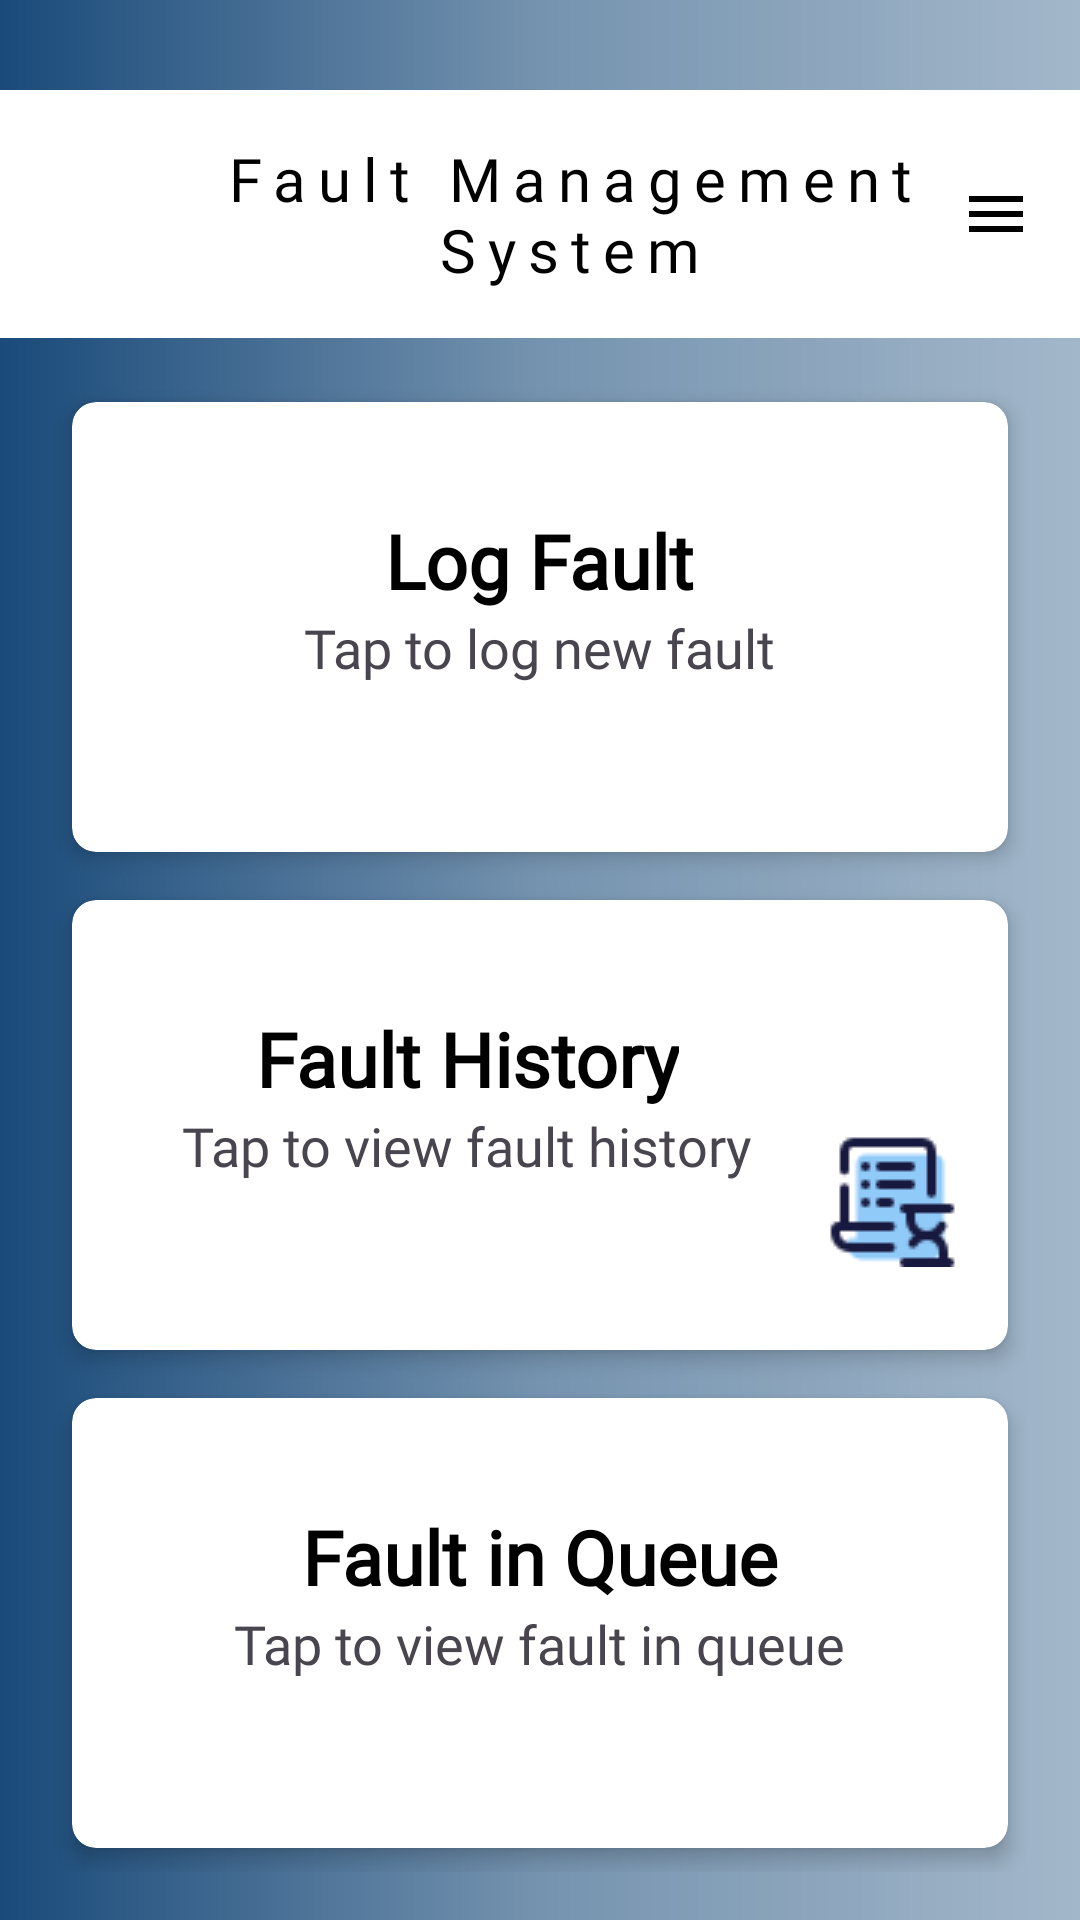

Icons on this 1080 × 1920 Android screen, each with its box as (x1, y1, x2, y2):
historyicon: (830, 1137, 955, 1267)
menu: (969, 196, 1023, 232)
